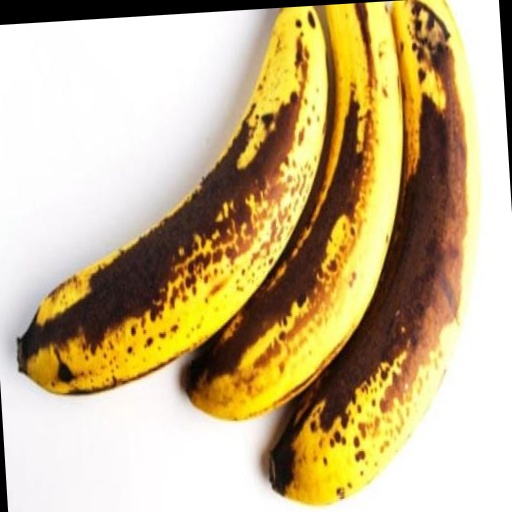fruit: (18, 6, 326, 393), (188, 2, 401, 420)
